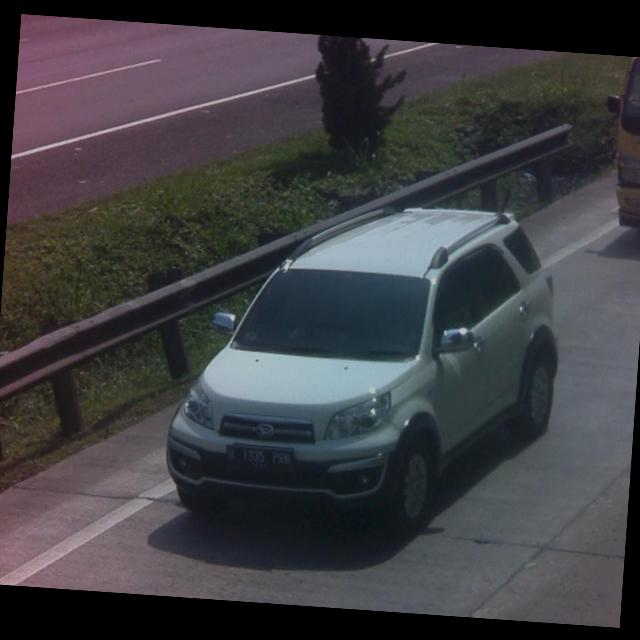plate: (222, 438, 298, 474)
